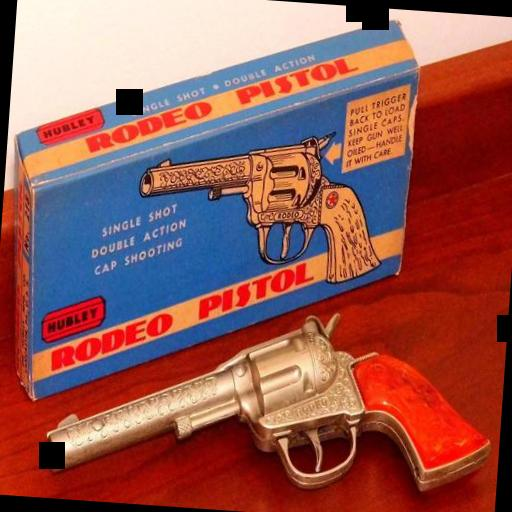Handgun: (37, 279, 500, 512)
